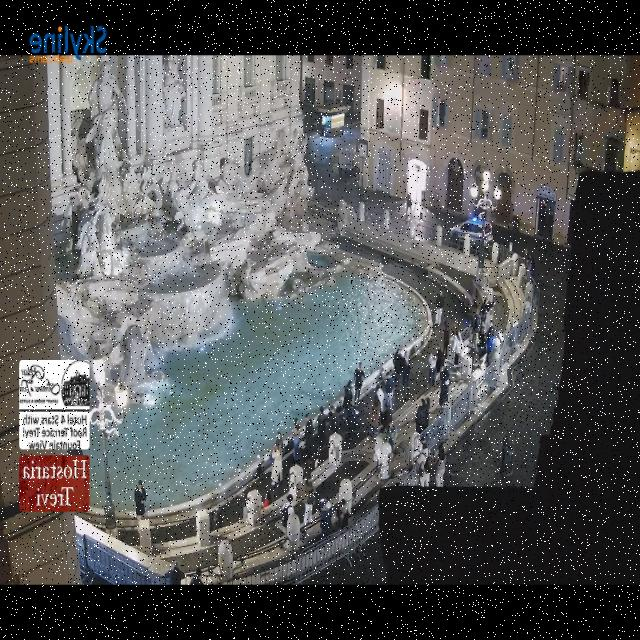person: (302, 473, 314, 524), (416, 448, 429, 488), (433, 444, 445, 487), (415, 399, 429, 434), (368, 395, 380, 432), (280, 493, 292, 530), (316, 406, 326, 450), (292, 418, 302, 461), (134, 480, 145, 519), (383, 372, 394, 410), (165, 562, 184, 584), (320, 499, 331, 537), (271, 444, 281, 485), (353, 363, 363, 404), (392, 350, 403, 385), (344, 406, 355, 441), (439, 368, 448, 407), (452, 332, 462, 365), (434, 291, 443, 325), (402, 351, 410, 389), (304, 413, 312, 450), (337, 499, 347, 528), (476, 335, 486, 364), (327, 405, 337, 434), (429, 350, 437, 386), (342, 380, 352, 408), (471, 312, 479, 347), (386, 420, 396, 447), (485, 333, 493, 365), (380, 406, 391, 429), (524, 250, 533, 277), (273, 432, 283, 455), (442, 322, 448, 358), (274, 431, 283, 455), (436, 346, 443, 375), (448, 330, 455, 358), (189, 569, 202, 584), (469, 299, 477, 323), (375, 383, 383, 407), (478, 318, 485, 341), (479, 298, 487, 318), (261, 492, 270, 508), (406, 193, 411, 219), (452, 319, 459, 332)
